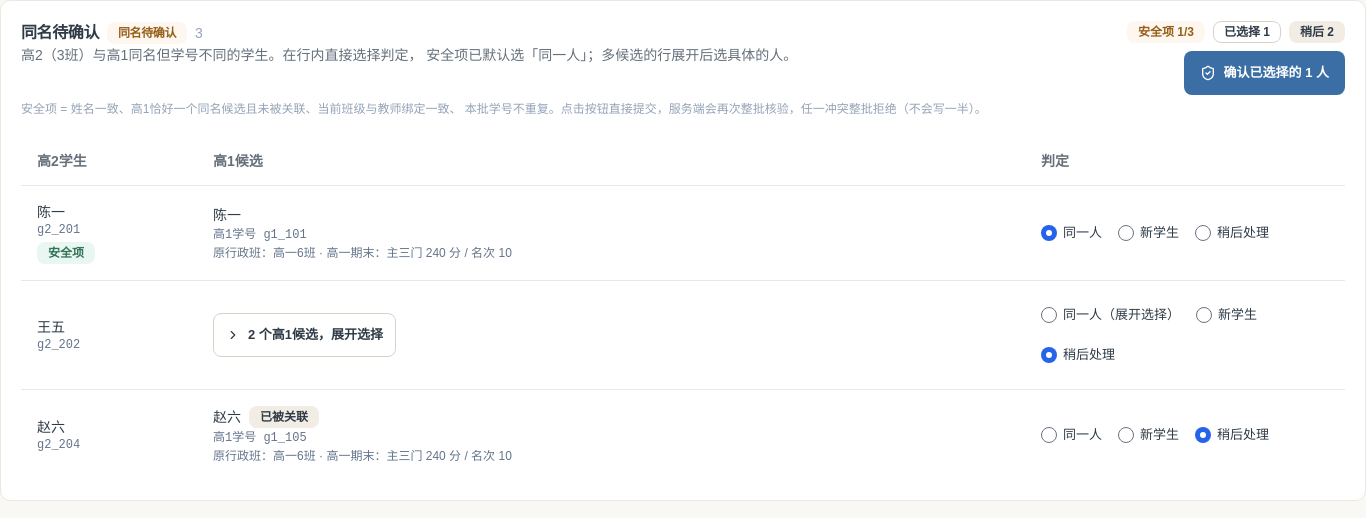
Test: AmbiguousBatchCard 行内批量确认 › 安全行也可改「稍后处理」，此时无人可提交、按钮禁用
What coordinates should you click on to do the following:
click the radio button with id "confirm-g2_201-later"
I would click on:
 (1203, 232)
Its box is [1195,224,1211,240].
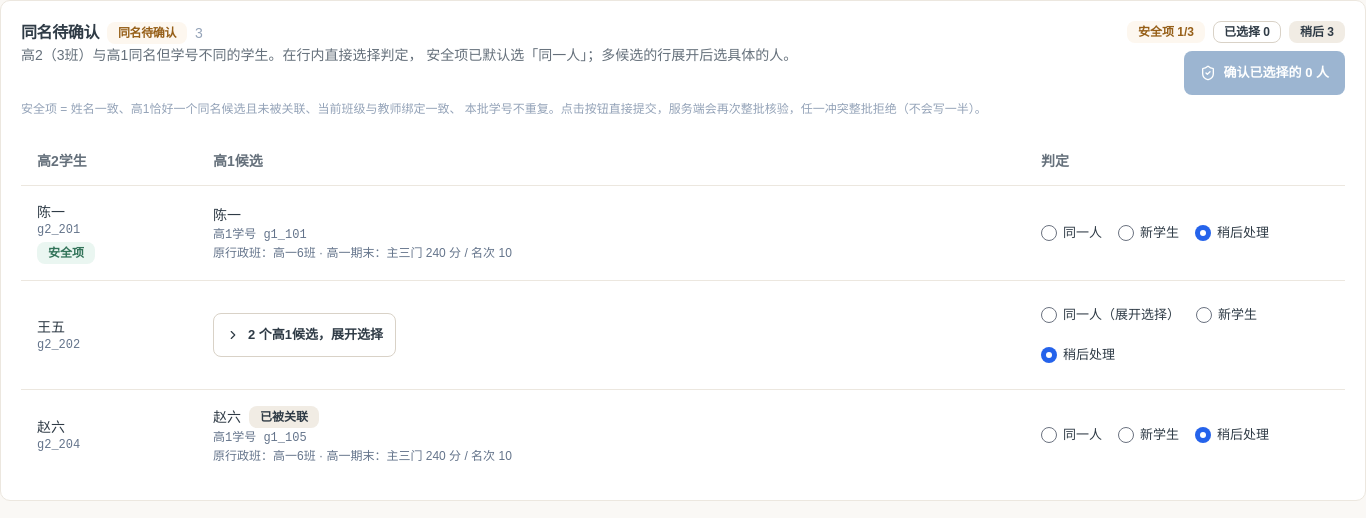
Result: the radio button with id "confirm-g2_201-later" is checked at [1195,224,1211,240]
Result: the button "确认已选择的 0 人" is disabled at [1184,51,1345,95]
